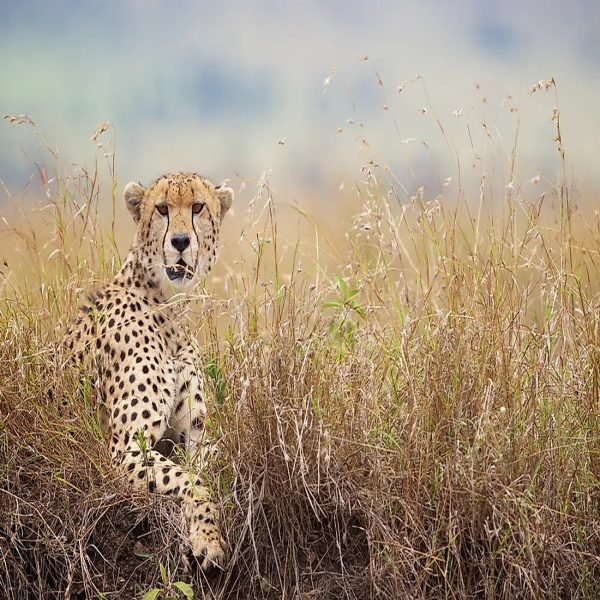Cheetah: (47, 168, 258, 576)
